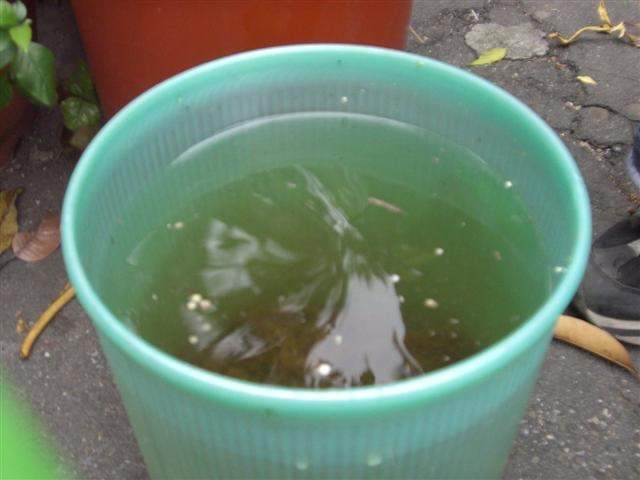bucket: (58, 41, 597, 480)
